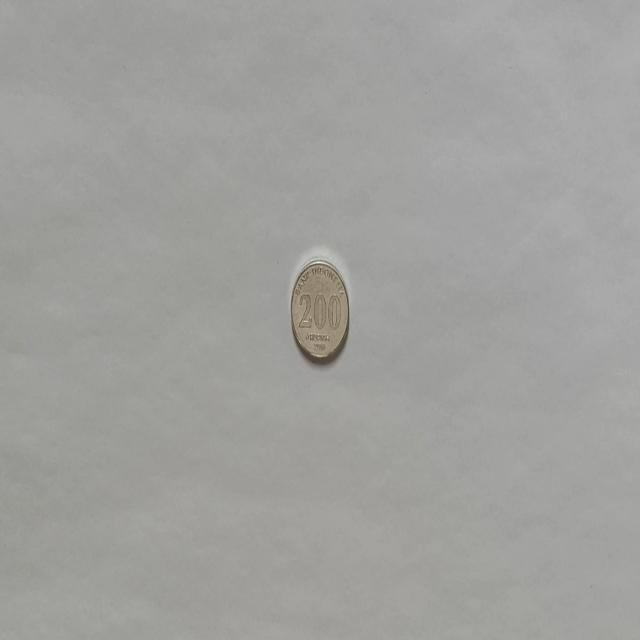dua ratus rupiah: (290, 256, 350, 364)
